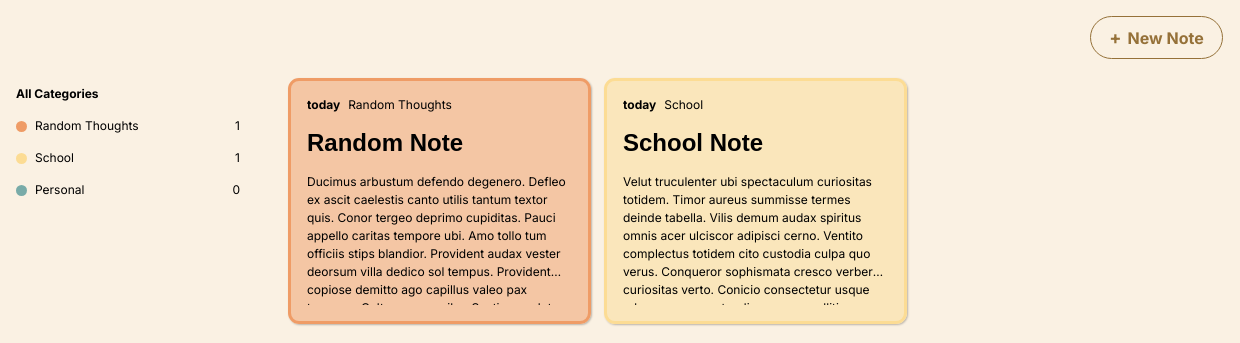
Scenario: NotesPage › filters notes when selecting a category
Expected: the heading "Random Note" is shown, [307,129,463,156]
# Click "School" category in the sidebar (the button containing "School")
Click the 2nd text "School": (54, 158) [35,150,74,165]
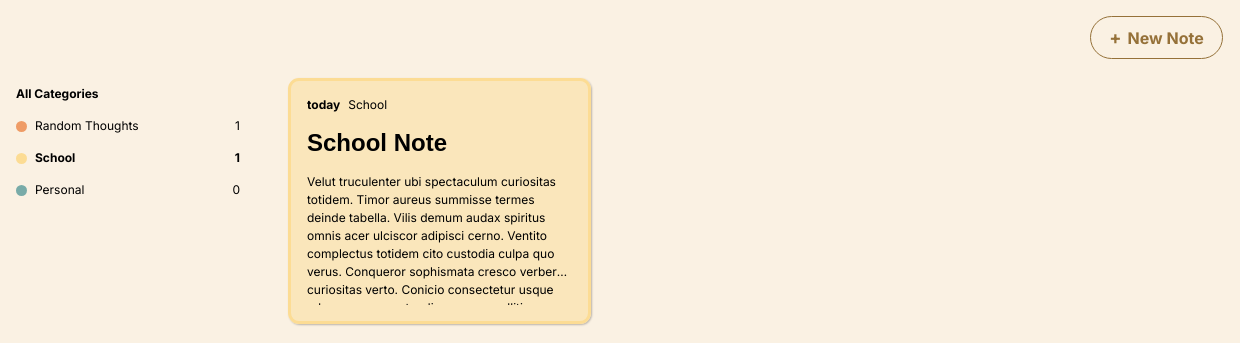
Expected: the heading "School Note" is shown, [307,129,447,156]
Expected: the button "Random Note" is gone
